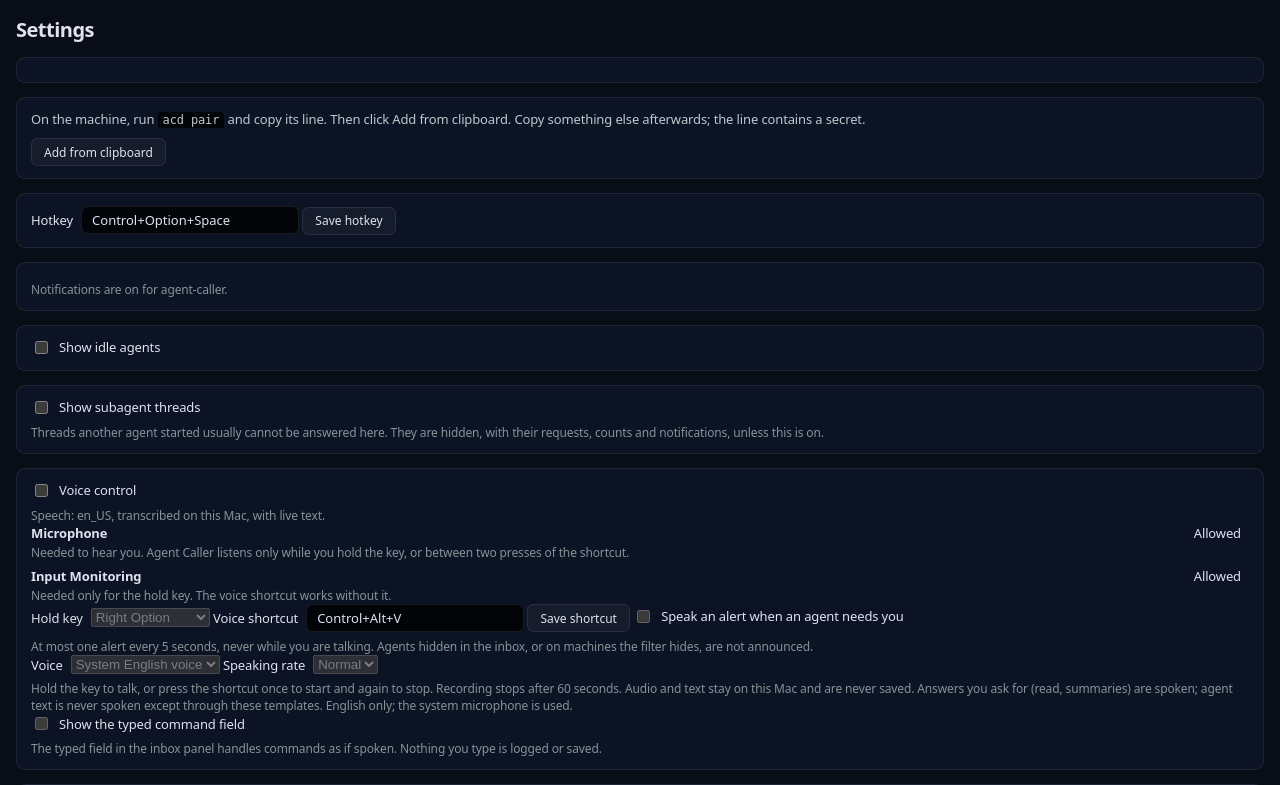
Test: the hotkey field loads the stored value and the rejection is shown
Replace the text in the field labelled "Hotkey" with "Command+K" at (190, 220), box [81, 206, 299, 234]
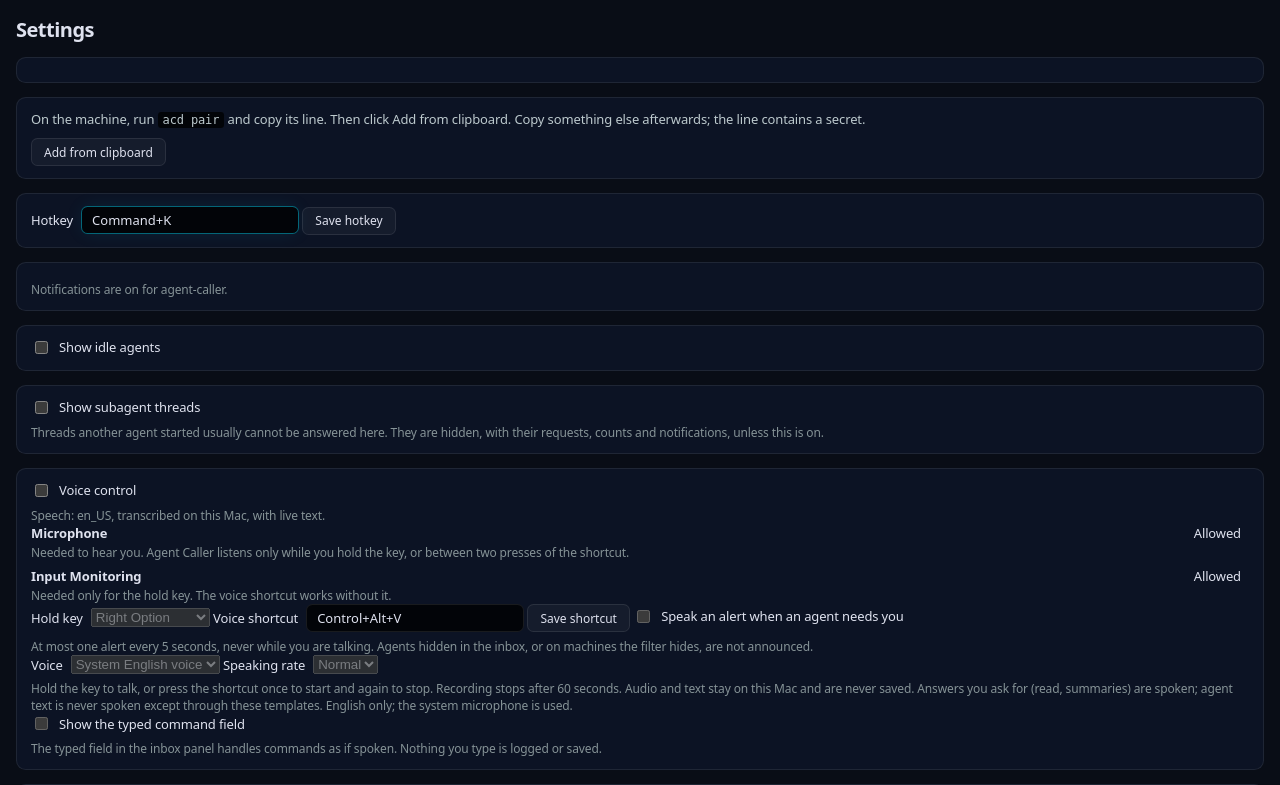
Click the button "Save hotkey" at (349, 220), box [302, 206, 396, 234]
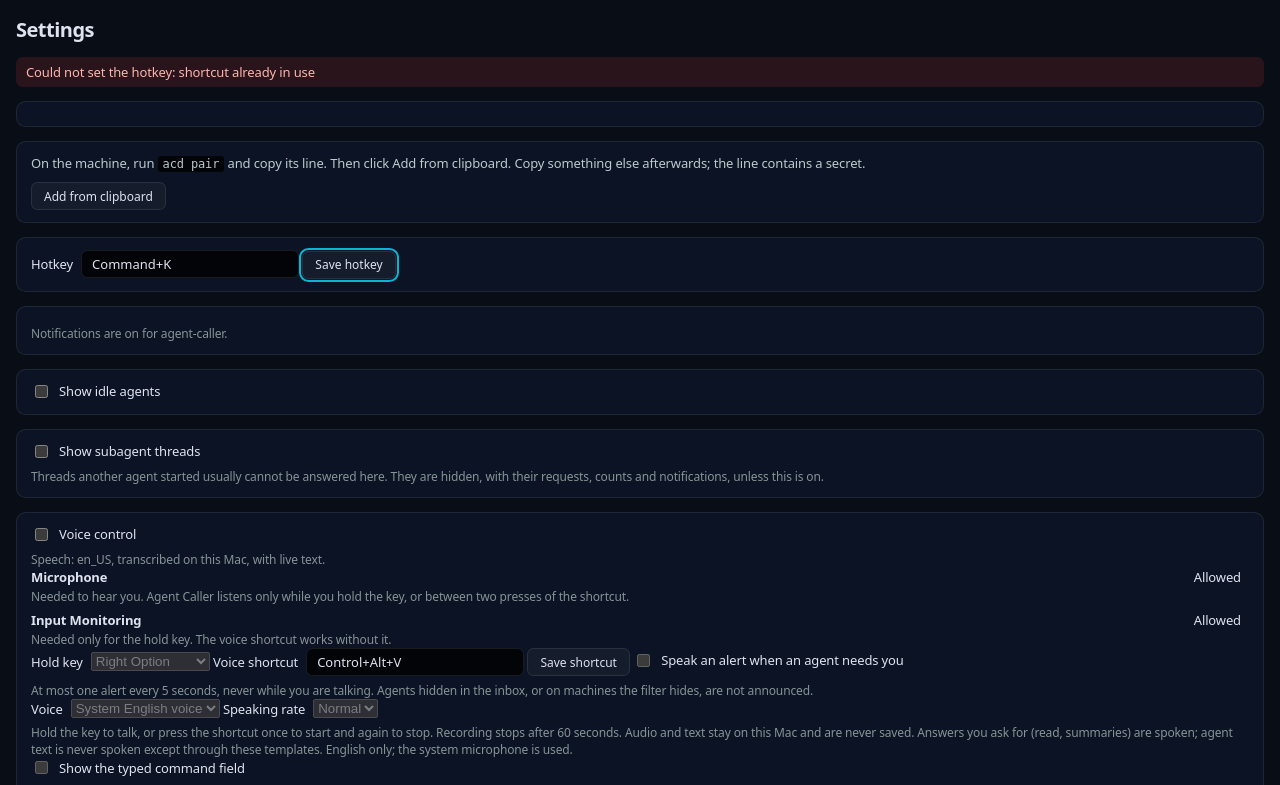
Check: the message "Could not set the hotkey: shortcut already in use" is shown, box [16, 57, 1264, 87]
